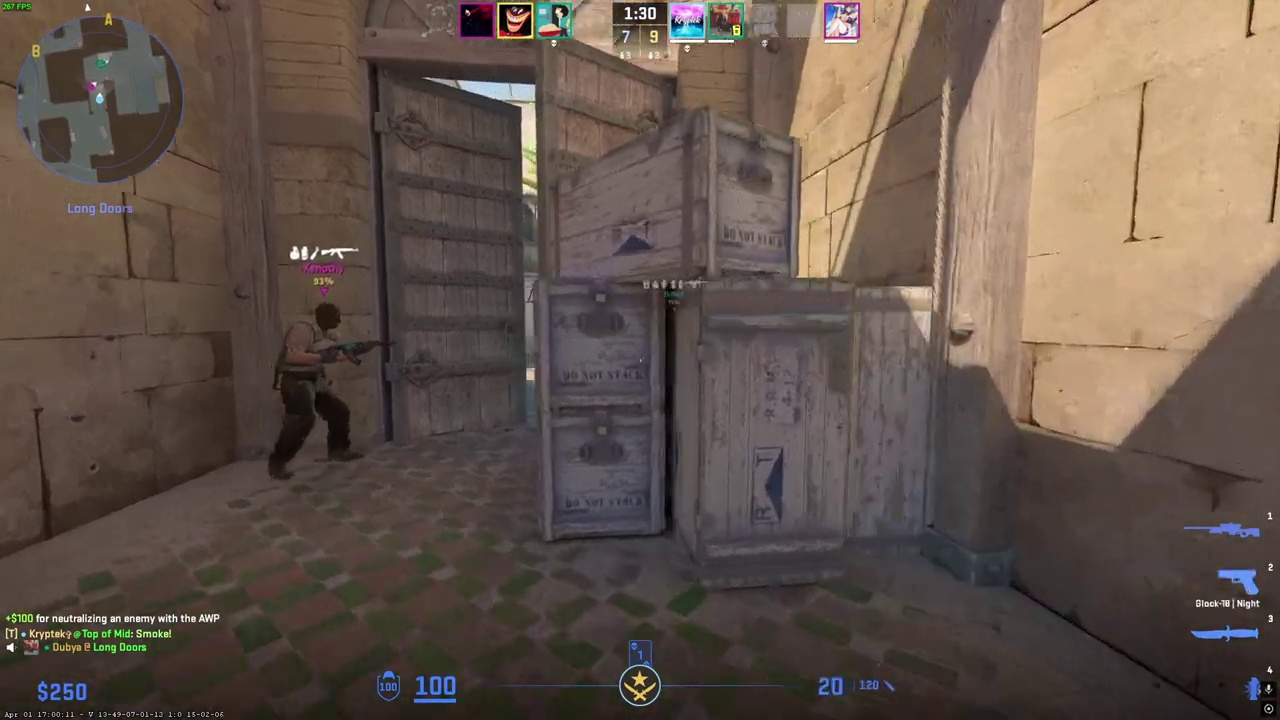Terrorist: (268, 301, 363, 481)
